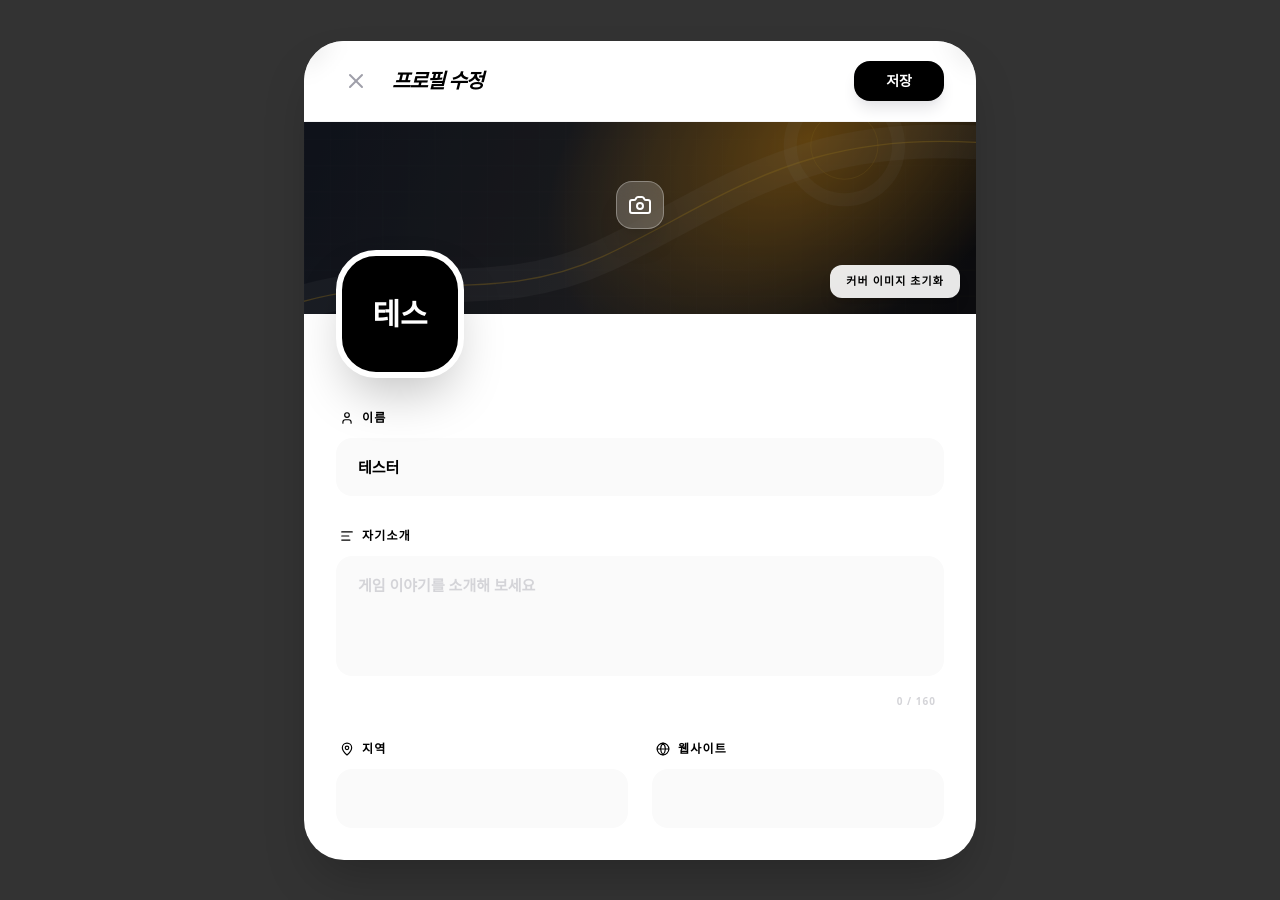
EditProfileModal 저장 오류 표시 › 한국어 대체 안내를 표시하고 Error.message와 저장 재시도 동작을 유지한다 (unknown failure)
Click the button "저장". click: click(899, 80)
box: x1=854 y1=60 x2=944 y2=100
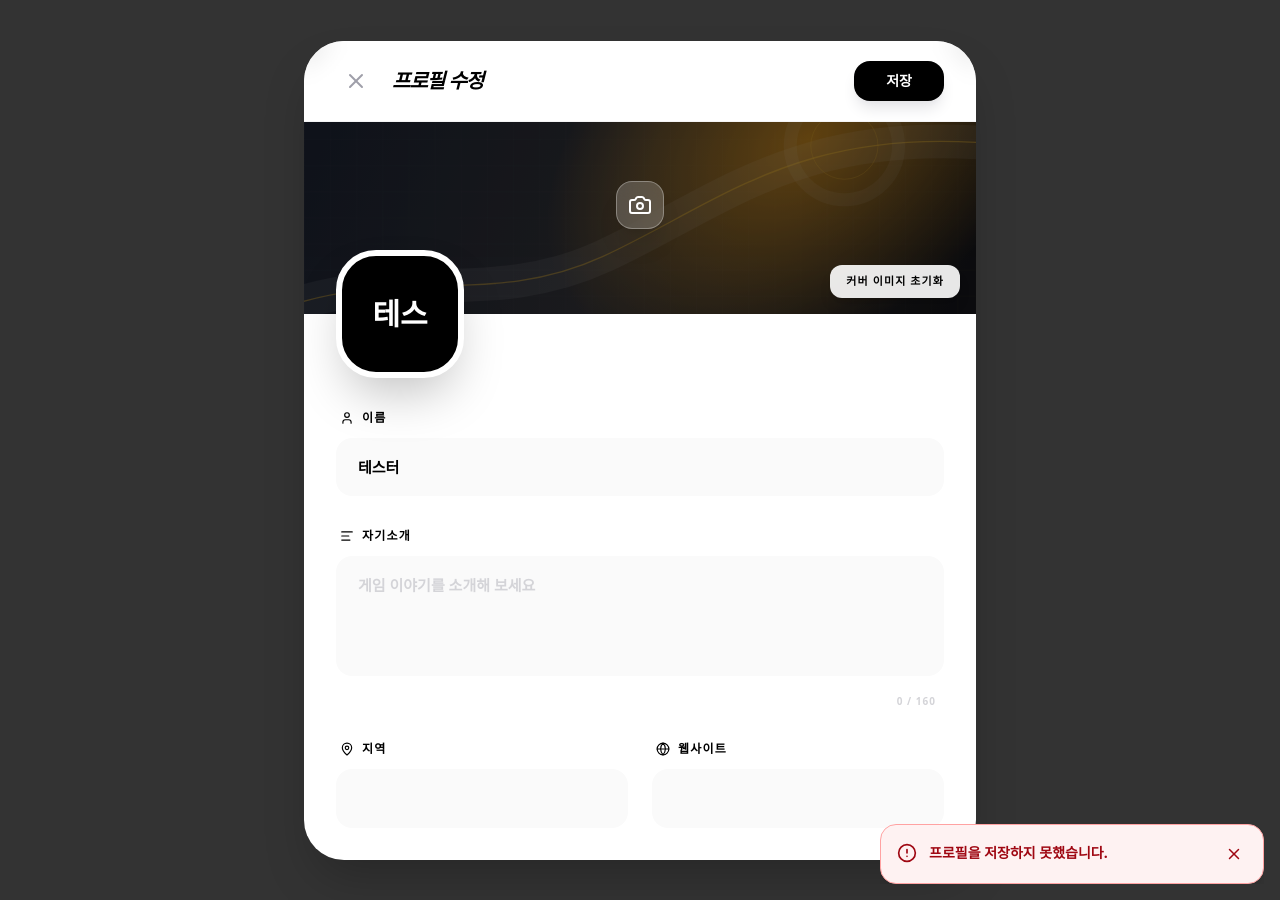
Expected: the message reads "프로필을 저장하지 못했습니다.", x1=929 y1=843 x2=1108 y2=862
